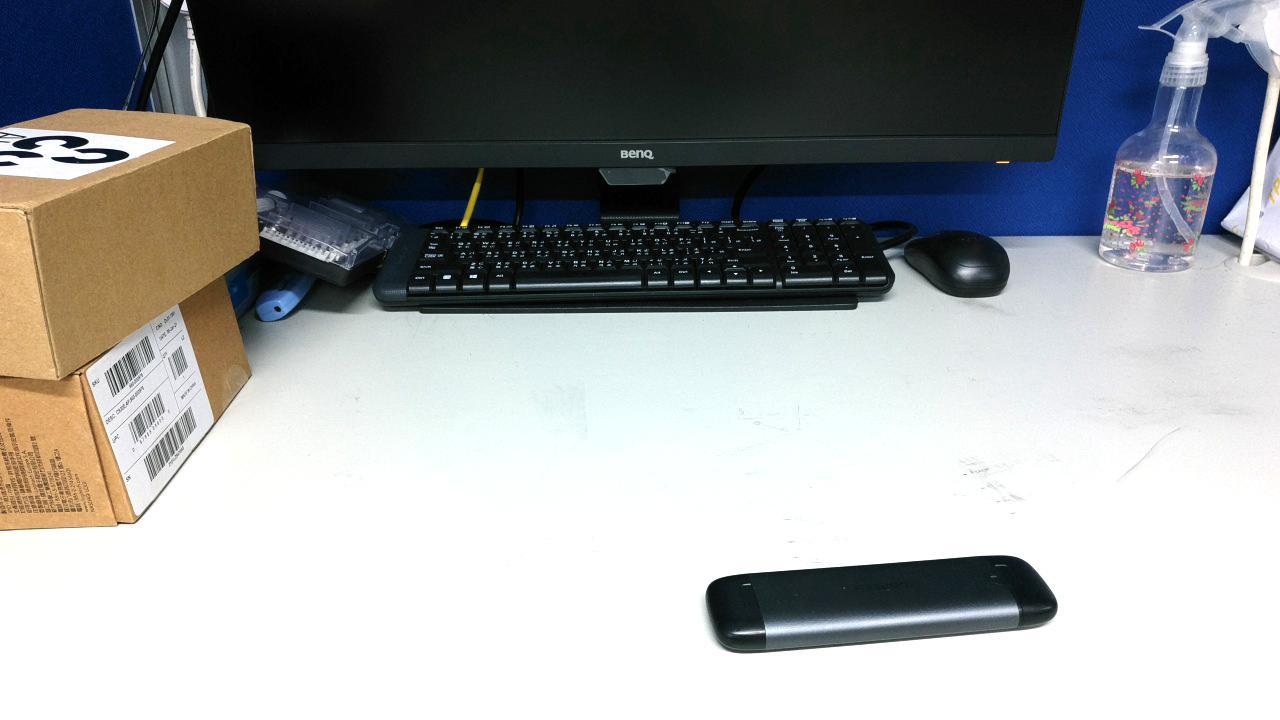blade: (851, 538, 906, 649)
grasp: (792, 465, 906, 545)
